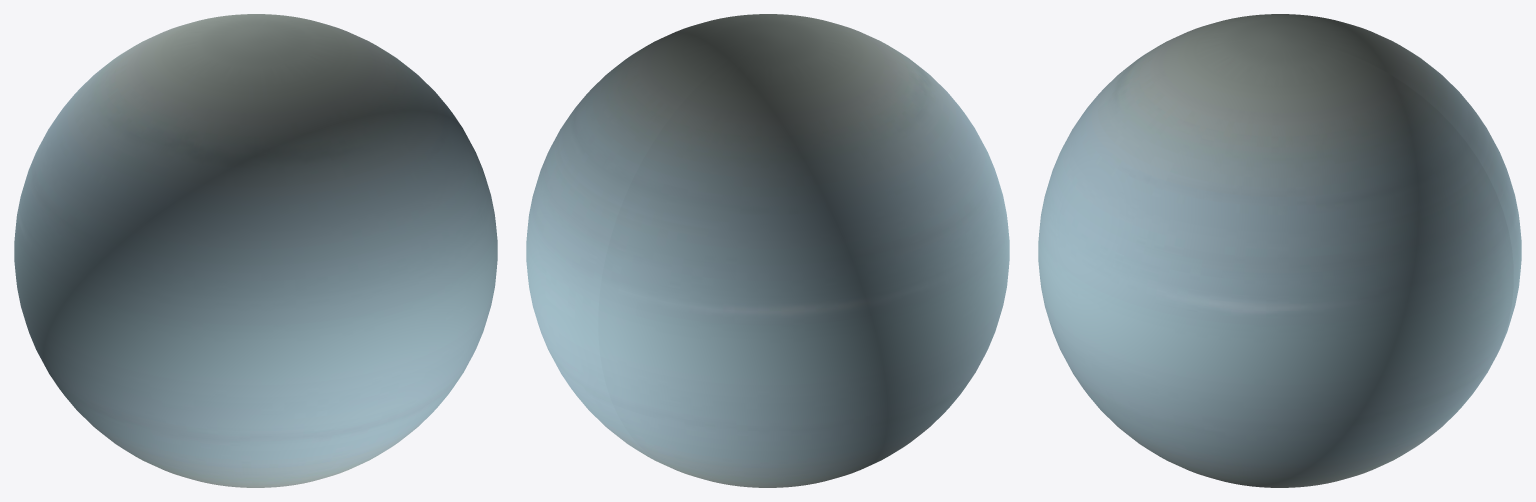
The model's file is UranusModel.obj.
The picture shows the model from 3 angles, left to right: view 1: azimuth 30°, elevation 25°; view 2: azimuth 150°, elevation 25°; view 3: azimuth 270°, elevation 25°; orthographic projection.
Parts seen in each view (by area): view 1: obj1; view 2: obj1; view 3: obj1.
Part boxes in pixels (x1,y1,x2,y2): obj1: (14,14,497,487); obj1: (526,14,1009,487); obj1: (1038,14,1521,487).
Bounding box in the file's own units: 1000 × 977 × 1000.
